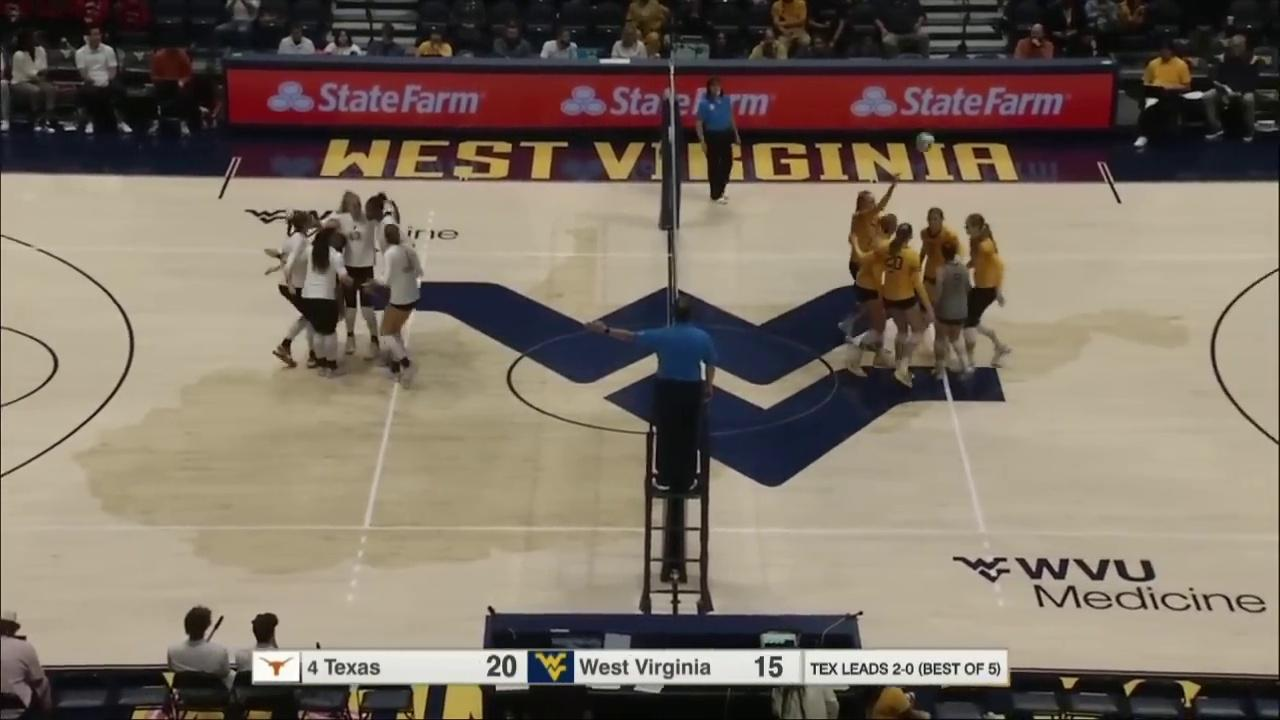player: (839, 174, 901, 347), (329, 190, 383, 358), (871, 223, 925, 383), (295, 225, 351, 379), (847, 215, 899, 377), (963, 213, 1011, 375), (364, 192, 408, 357), (380, 225, 422, 387), (272, 211, 315, 365), (916, 208, 965, 338), (934, 242, 971, 381)
refree: (589, 299, 717, 487), (696, 77, 741, 205)
